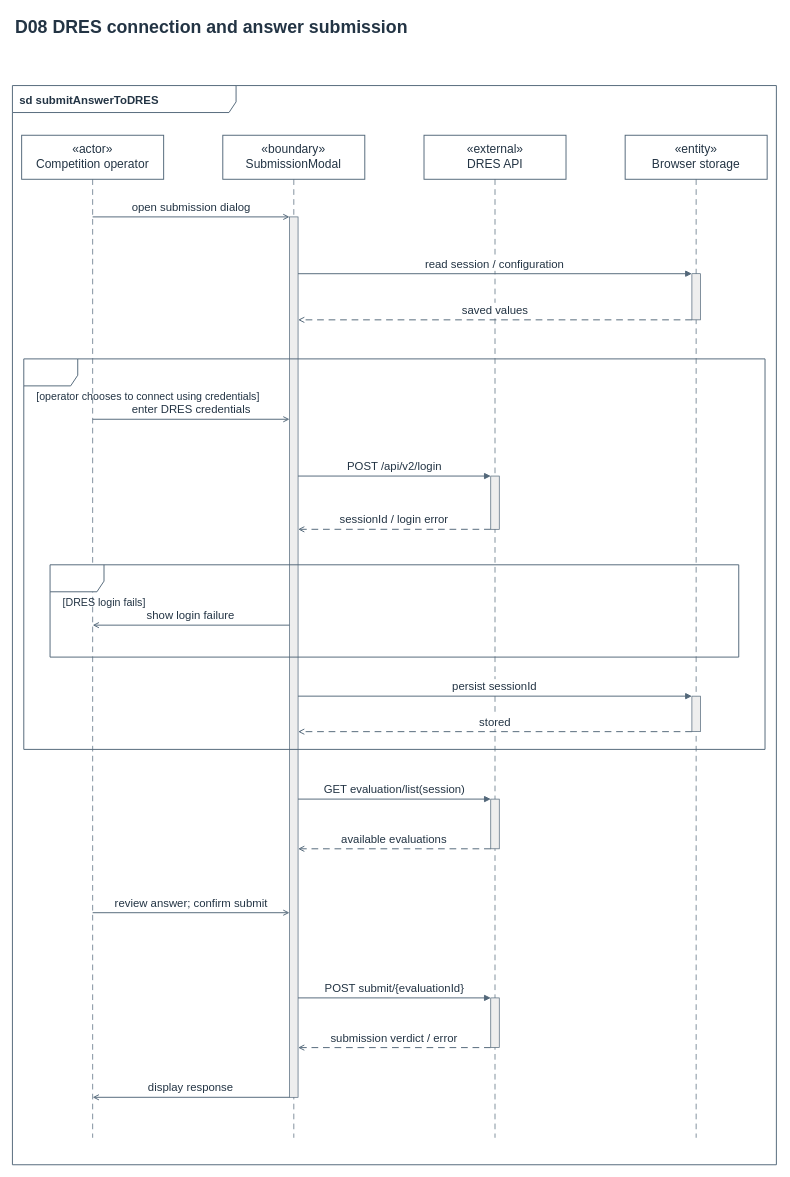
The diagram is 790 pixels wide and 1177 high, and some of its shapes have lost their labels. Here are the shapes that lost their labels. From the top down, the box of each, then its label:
(23, 358, 765, 750): opt
(49, 564, 739, 657): break
